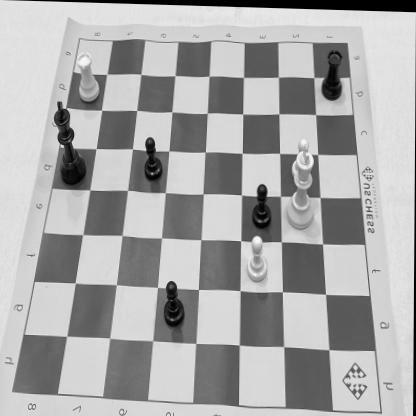black-king: (51, 98, 89, 190)
black-pawn: (162, 270, 188, 332), (140, 130, 166, 186), (249, 178, 274, 230)
black-rook: (318, 40, 350, 102)
white-king: (281, 139, 326, 232)
white-pawn: (244, 230, 274, 284), (289, 132, 317, 184)
white-rook: (72, 48, 104, 110)
